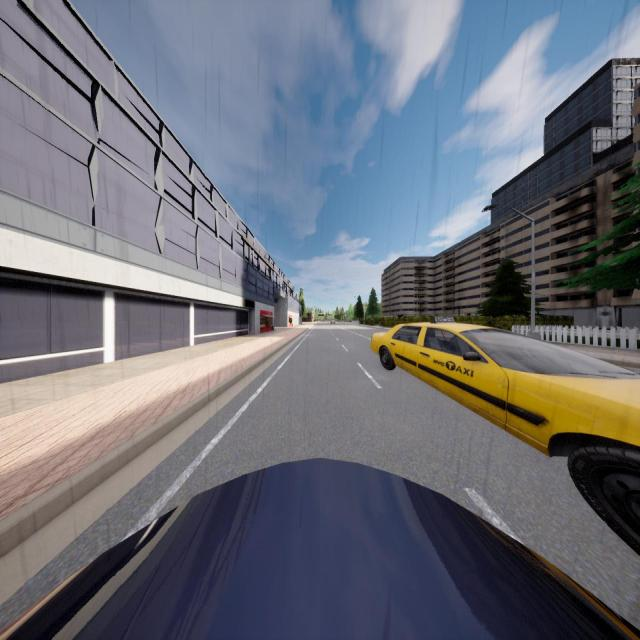Vehicle: (0, 457, 640, 640), (371, 319, 640, 551), (330, 318, 336, 324)
